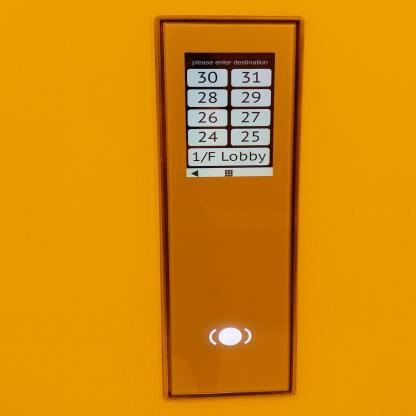24: (188, 128, 228, 146)
25: (229, 127, 271, 147)
26: (187, 108, 228, 128)
27: (230, 108, 271, 126)
28: (186, 88, 228, 107)
29: (230, 88, 272, 107)
30: (186, 68, 228, 87)
31: (230, 68, 272, 87)
text: (187, 146, 271, 167)
